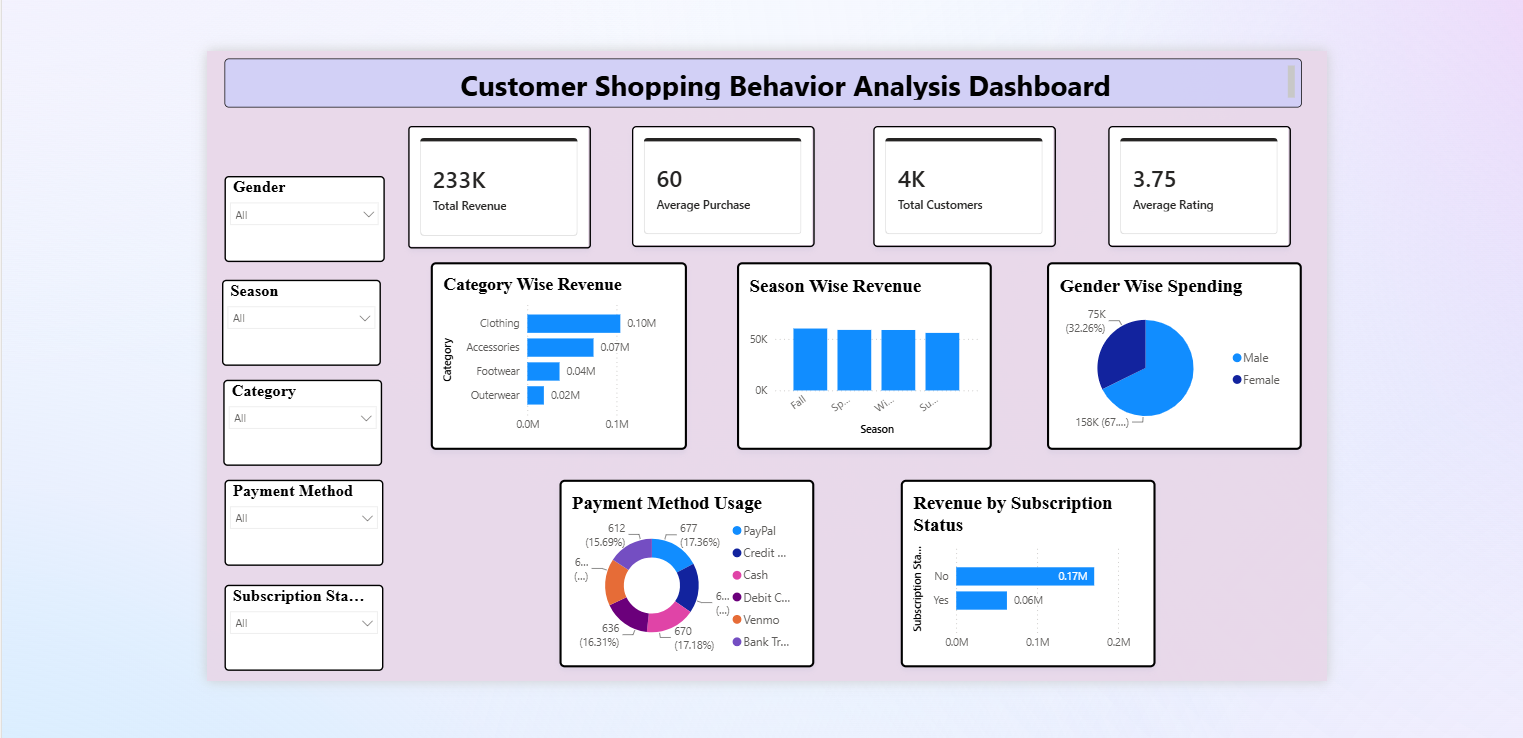

The dashboard page shown, as its layout file describes it:
{"tool":"powerbi","page":{"name":"Page 1","canvas":[1280,720],"ordinal":0},"visuals":[{"type":"cardVisual","fields":{"Data":["cleaned_shopping_data.Total Revenue"]},"box":[230,85.7,208.6,140],"z":0},{"type":"cardVisual","fields":{"Data":["cleaned_shopping_data.Average Purchase"]},"box":[485.7,85.7,208.6,138.6],"z":1},{"type":"cardVisual","fields":{"Data":["cleaned_shopping_data.Total Customers"]},"box":[761.4,85.7,208.6,138.6],"z":2},{"type":"cardVisual","fields":{"Data":["cleaned_shopping_data.Average Rating"]},"box":[1030,85.7,208.6,138.6],"z":3},{"type":"clusteredBarChart","title":"Category Wise Revenue","fields":{"Category":["cleaned_shopping_data.Category"],"Y":["Sum(cleaned_shopping_data.Purchase Amount (USD))"]},"box":[255.7,241.4,292.9,214.3],"z":4},{"type":"clusteredColumnChart","title":"Season Wise Revenue","fields":{"Category":["cleaned_shopping_data.Season"],"Y":["Sum(cleaned_shopping_data.Purchase Amount (USD))"]},"box":[605.7,241.4,291.4,214.3],"z":5},{"type":"pieChart","title":"Gender Wise Spending","fields":{"Category":["cleaned_shopping_data.Gender"],"Y":["Sum(cleaned_shopping_data.Purchase Amount (USD))"]},"box":[960,241.4,291.4,214.3],"z":6},{"type":"donutChart","title":"Payment Method Usage","fields":{"Category":["cleaned_shopping_data.Payment Method"],"Y":["CountNonNull(cleaned_shopping_data.Customer ID)"]},"box":[402.9,490,291.4,214.3],"z":7},{"type":"clusteredBarChart","title":"Revenue by Subscription Status","fields":{"Category":["cleaned_shopping_data.Subscription Status"],"Y":["Sum(cleaned_shopping_data.Purchase Amount (USD))"]},"box":[792.9,490,291.4,214.3],"z":8},{"type":"slicer","fields":{"Values":["cleaned_shopping_data.Gender"]},"box":[20,142.9,182.9,98.6],"z":9},{"type":"slicer","fields":{"Values":["cleaned_shopping_data.Season"]},"box":[17.1,261.4,181.4,98.6],"z":10},{"type":"slicer","fields":{"Values":["cleaned_shopping_data.Category"]},"box":[18.6,375.7,181.4,98.6],"z":11},{"type":"slicer","fields":{"Values":["cleaned_shopping_data.Payment Method"]},"box":[20,490,181.4,98.6],"z":12},{"type":"slicer","fields":{"Values":["cleaned_shopping_data.Subscription Status"]},"box":[20,610,181.4,98.6],"z":13},{"type":"textbox","box":[20,8.6,1231.4,55.7],"z":14}]}

Visuals, with their boxes on the page's 1280x720 design canvas (x1, y1, x2, y2). These are canvas units, not pixel positions in the 1523x738 screenshot, which may show the page scaled, cropped or inside an application window:
cardVisual - cleaned_shopping_data.Total Revenue: x1=230 y1=86 x2=439 y2=226
cardVisual - cleaned_shopping_data.Average Purchase: x1=486 y1=86 x2=694 y2=224
cardVisual - cleaned_shopping_data.Total Customers: x1=761 y1=86 x2=970 y2=224
cardVisual - cleaned_shopping_data.Average Rating: x1=1030 y1=86 x2=1239 y2=224
"Category Wise Revenue" clusteredBarChart: x1=256 y1=241 x2=549 y2=456
"Season Wise Revenue" clusteredColumnChart: x1=606 y1=241 x2=897 y2=456
"Gender Wise Spending" pieChart: x1=960 y1=241 x2=1251 y2=456
"Payment Method Usage" donutChart: x1=403 y1=490 x2=694 y2=704
"Revenue by Subscription Status" clusteredBarChart: x1=793 y1=490 x2=1084 y2=704
slicer - cleaned_shopping_data.Gender: x1=20 y1=143 x2=203 y2=242
slicer - cleaned_shopping_data.Season: x1=17 y1=261 x2=198 y2=360
slicer - cleaned_shopping_data.Category: x1=19 y1=376 x2=200 y2=474
slicer - cleaned_shopping_data.Payment Method: x1=20 y1=490 x2=201 y2=589
slicer - cleaned_shopping_data.Subscription Status: x1=20 y1=610 x2=201 y2=709
textbox: x1=20 y1=9 x2=1251 y2=64
